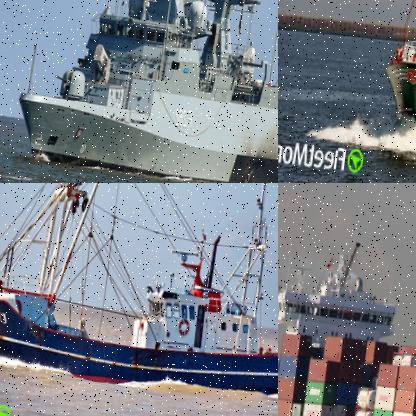Fishing Boat: (0, 183, 277, 406), (375, 0, 415, 168)
Merchant Ship: (278, 231, 415, 415)
Military Ship: (11, 0, 277, 182)
